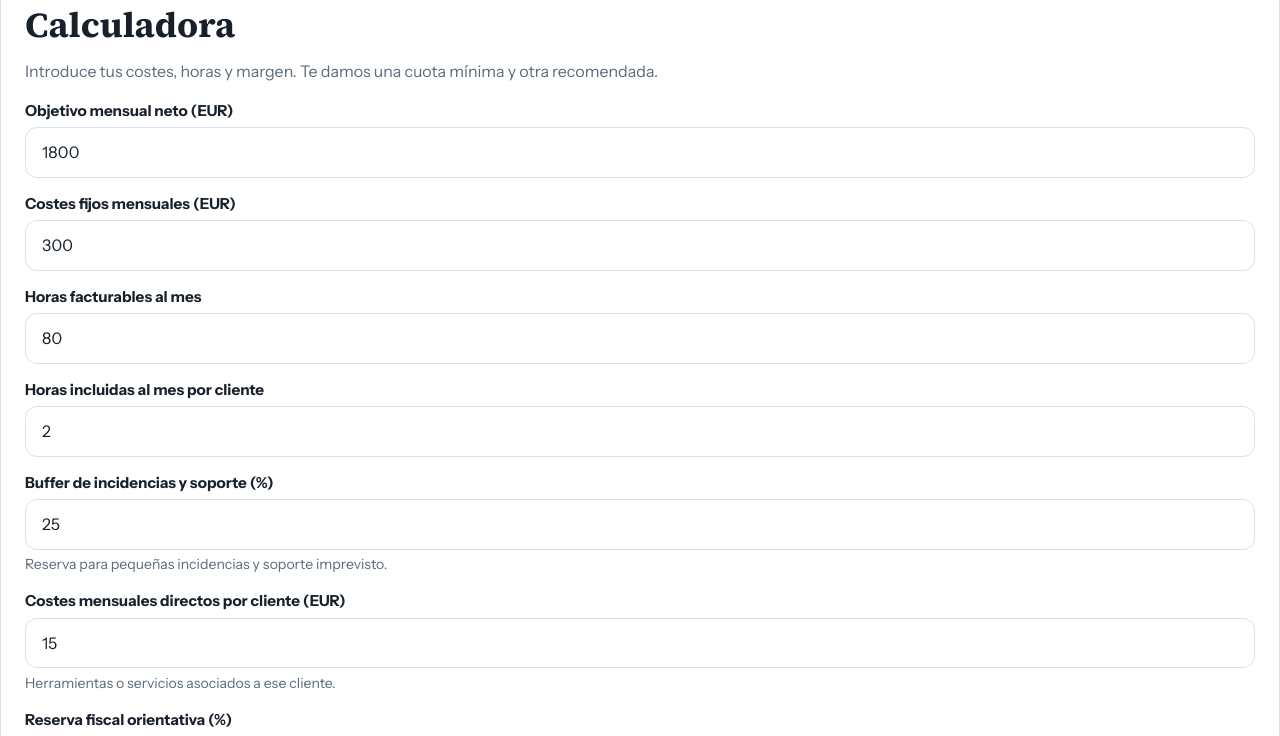
CalculatorForm › shows an error and blocks results when billable hours are 0
Replace the text in the number field labelled "Horas facturables al mes" with "0": [640, 338] box [25,313,1255,364]
(page scrolled)
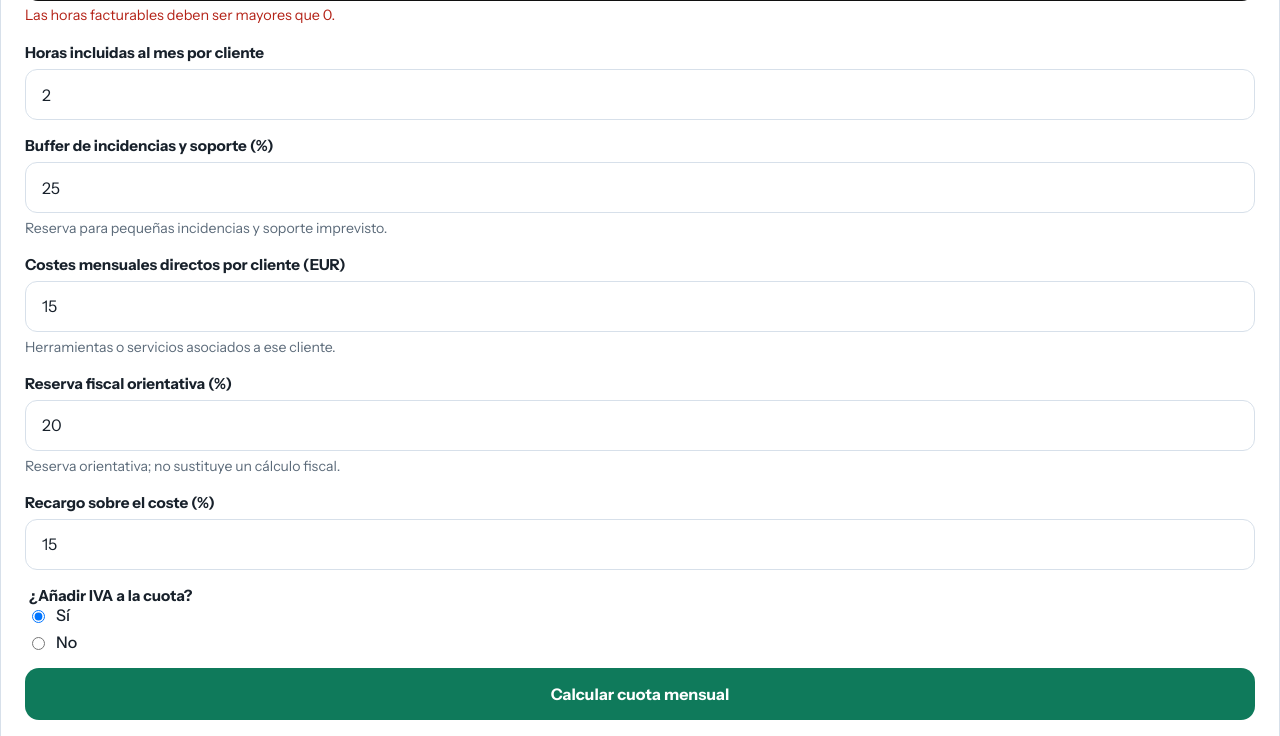
Click the button "Calcular cuota mensual": [640, 694] box [25,668,1255,720]
(page scrolled)
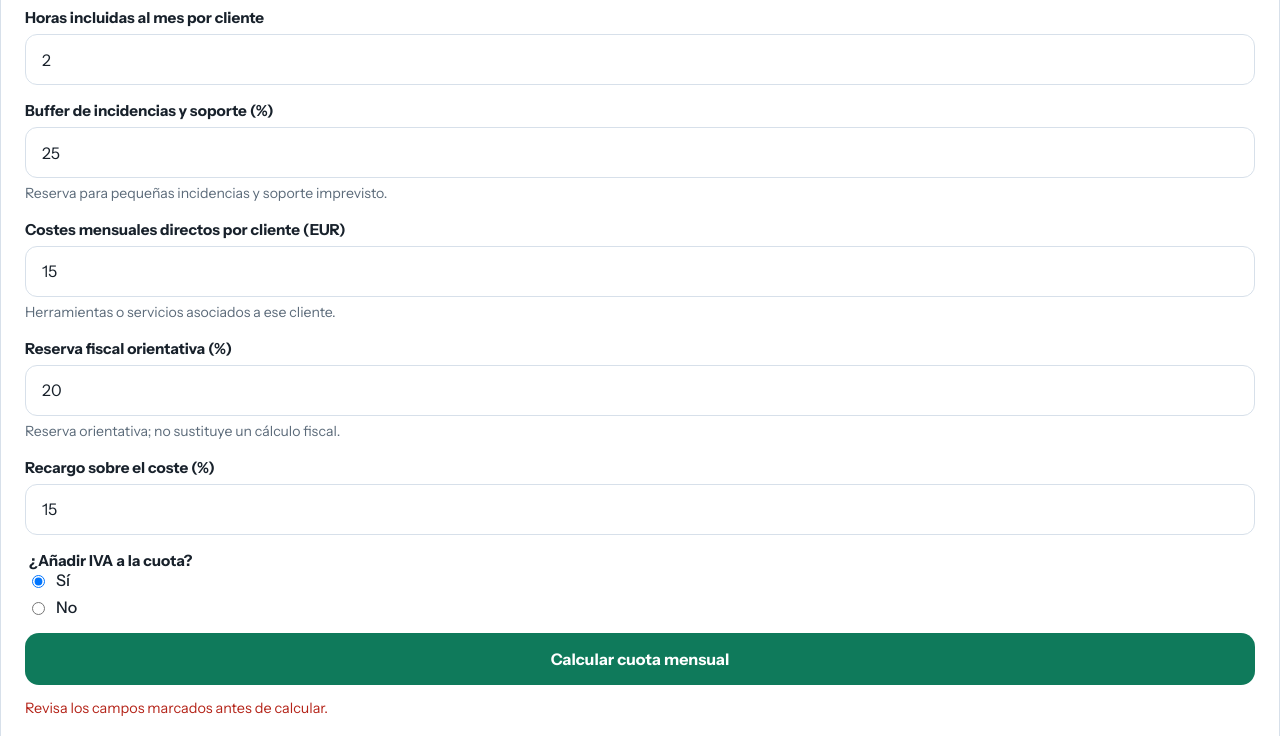
expect the text "Revisa los campos marcados antes de calcular." is shown: met, box [25,699,328,717]
